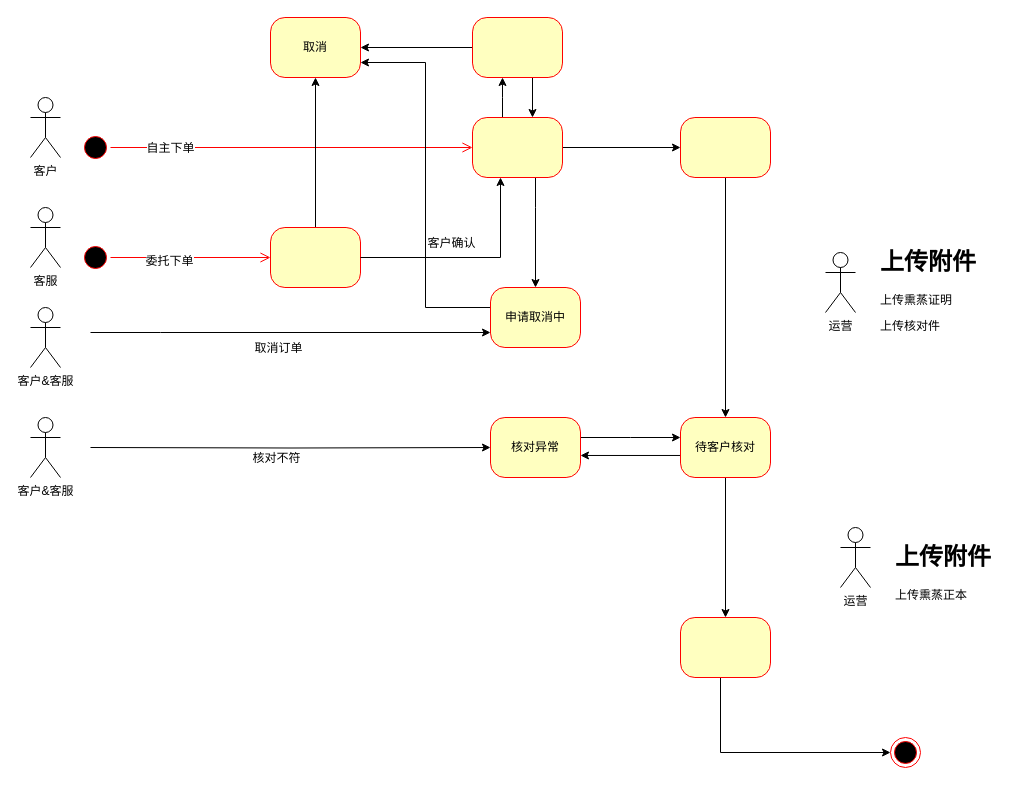
Image size: 1017x785. Some labels were removed from this diagram. The centre of each missing label's shape, as x and y in pixels:
下单待修改: point 517,47
下单待确认: point 315,257
处理中: point 725,147
已完成: point 725,647
订单预处理: point 517,147
